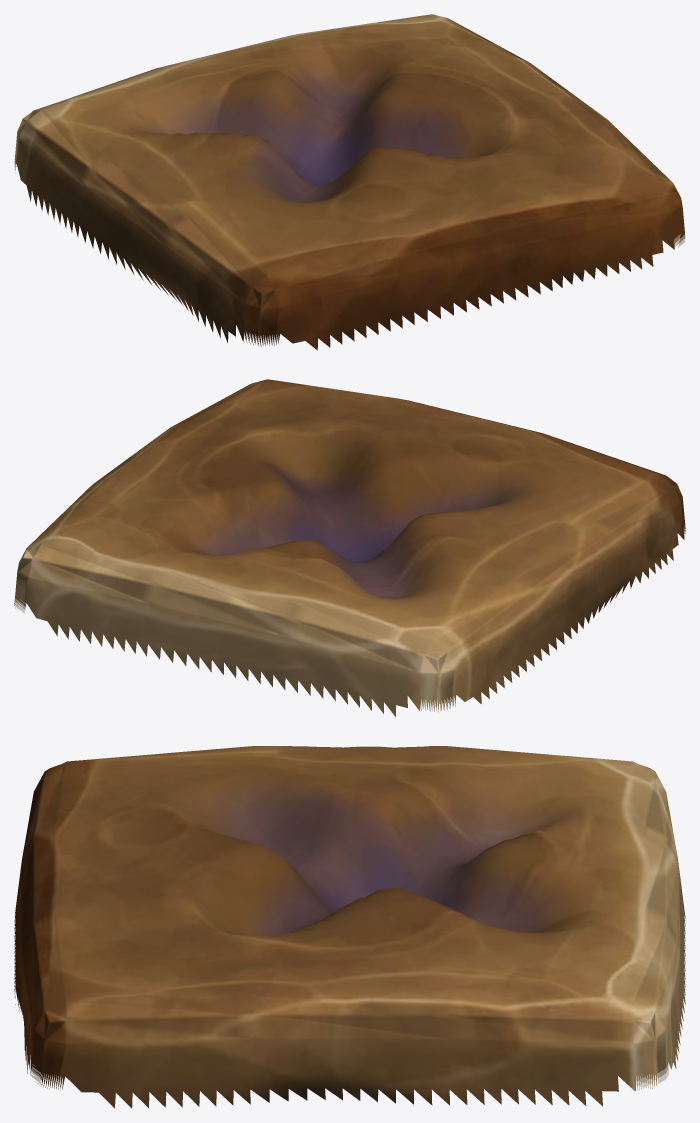
File: XhintGround.glb
3 views of the same model, one above another, from view 1: azimuth 30°, elevation 25°; view 2: azimuth 150°, elevation 25°; view 3: azimuth 270°, elevation 25° (orthographic). The views are drawn at different scales.
Visible parts, largest first — view 1: Cube; view 2: Cube; view 3: Cube.
Part boxes in pixels (box(x1,y1,x2,y2)): Cube: box(14, 14, 685, 350); Cube: box(14, 379, 685, 716); Cube: box(14, 746, 685, 1108).
Bounding box in the file's own units: 1.01 × 0.1992 × 1.01.
1 material, 1 textured.
